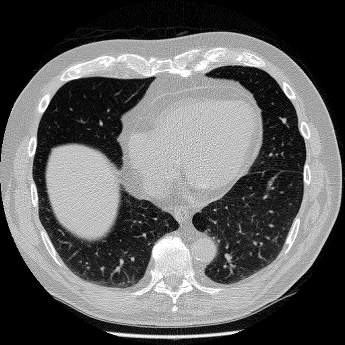nodule: (281, 117, 287, 123)
